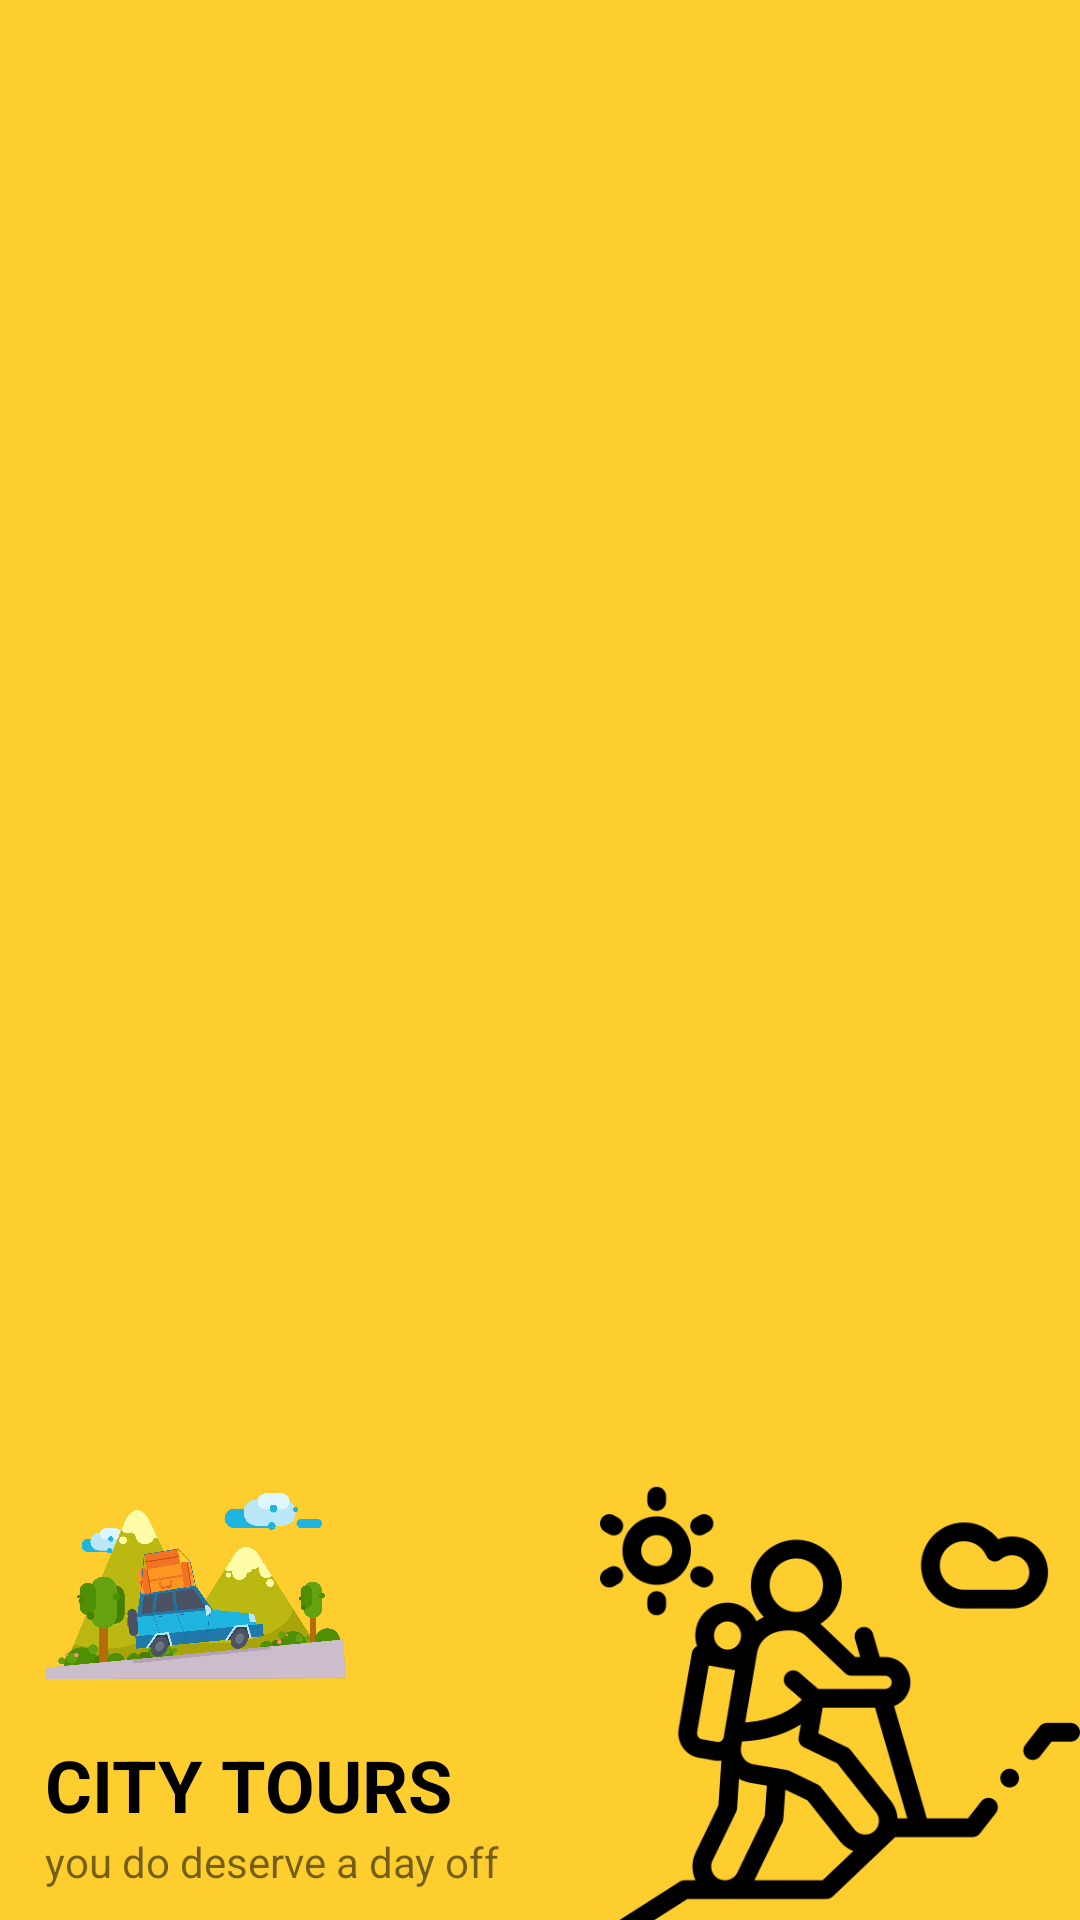

Where icons sit on this 1080px x 1920px app screen, as (x1,y1,x2,y2):
car: (45,1493,345,1679)
